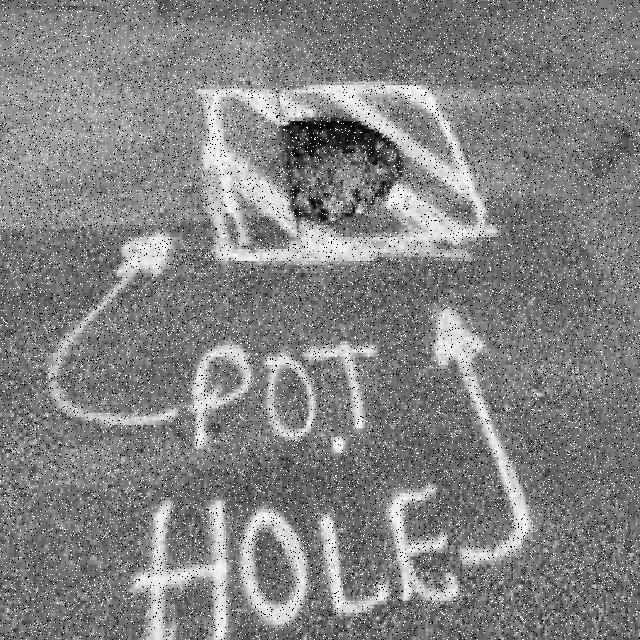pothole: (282, 121, 406, 229)
